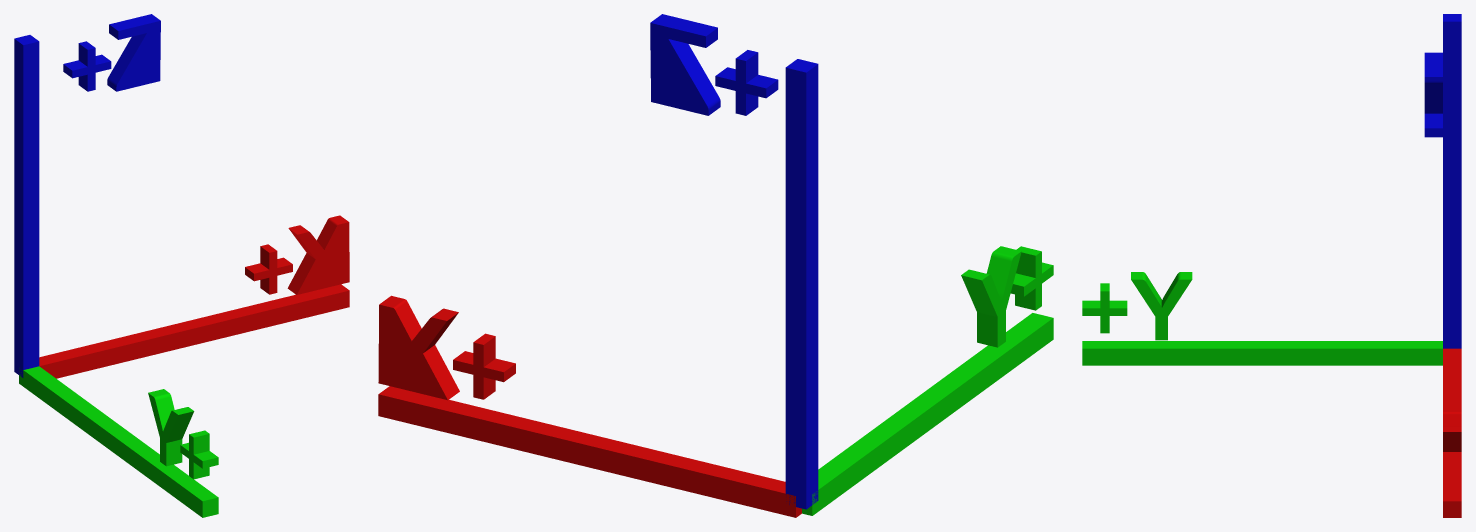
The model's file is coords.obj.
The picture shows the model from 3 angles, left to right: view 1: azimuth 30°, elevation 25°; view 2: azimuth 150°, elevation 25°; view 3: azimuth 270°, elevation 25°; orthographic projection. The views are drawn at different scales.
Size of the model in its own units: 2.05 by 2.05 by 2.05.
